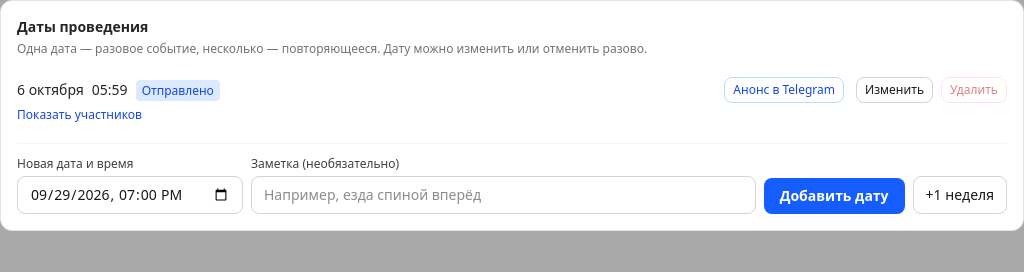
Test case: EventDatesManager › участник только с username показывает @username ссылкой без дублирования
Click the button "Показать участников".
click(80, 115)  # box [17, 107, 142, 123]
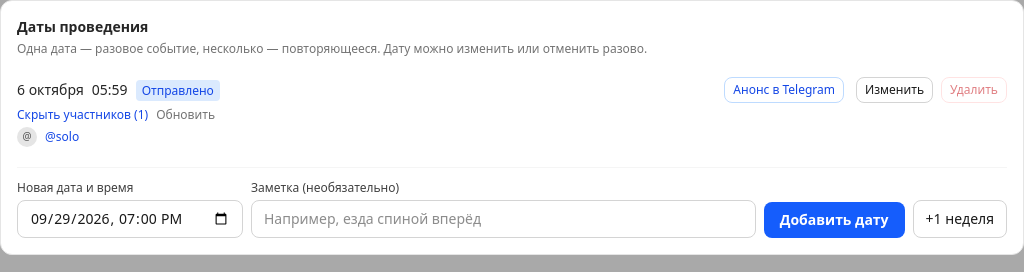
Expected: the number of links "@solo" is 1, [45, 129, 79, 145]
